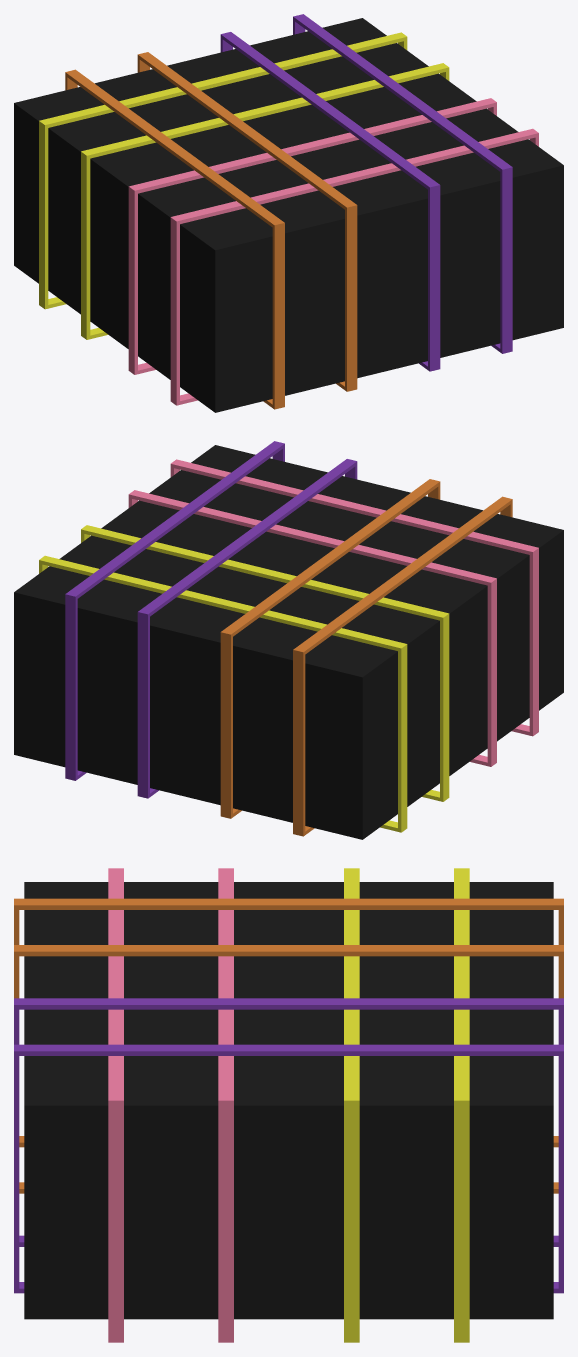
The model's file is minecraft.obj.
3 renders of one model, top to bottom at view 1: azimuth 30°, elevation 25°; view 2: azimuth 150°, elevation 25°; view 3: azimuth 270°, elevation 25°, orthographic. The views are drawn at different scales.
Size of the model in its own units: 105 by 53 by 105.
